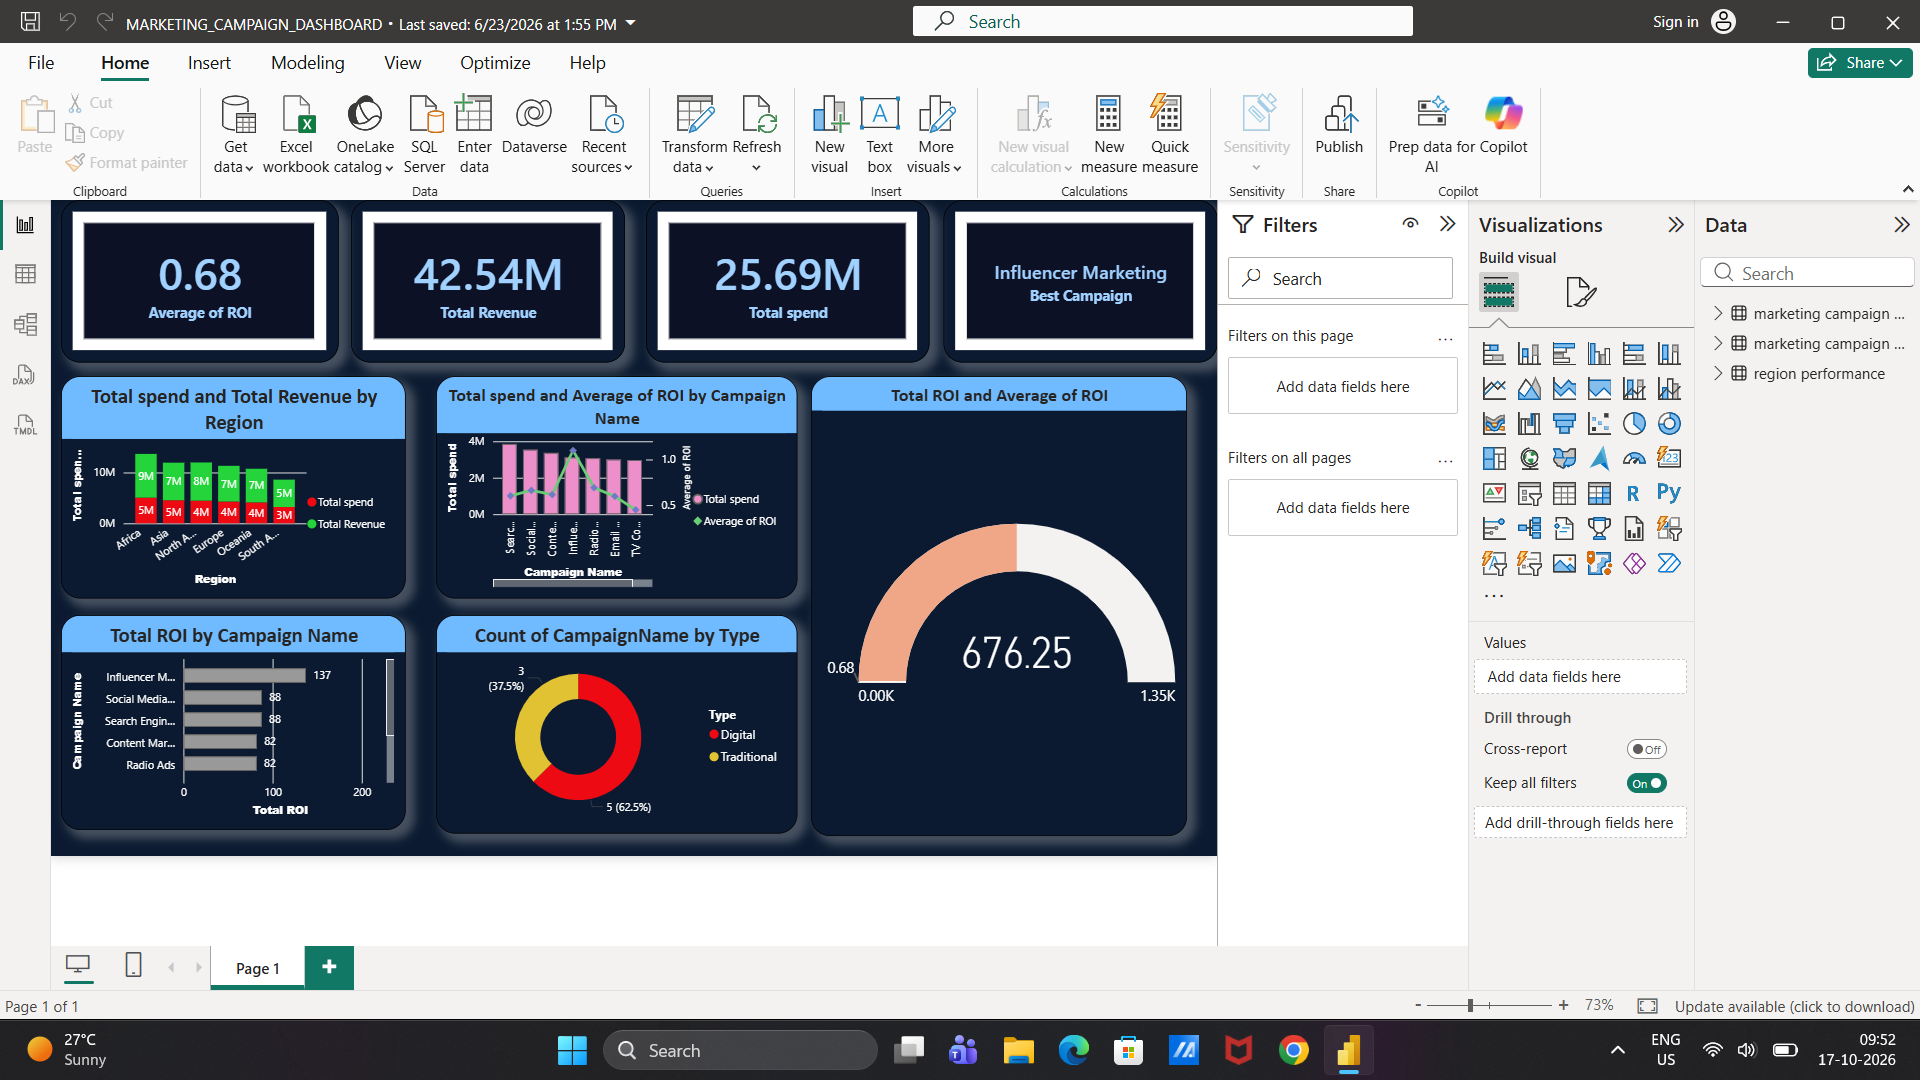

The dashboard page shown, as its layout file describes it:
{"tool":"powerbi","page":{"name":"Page 1","canvas":[1280,720],"ordinal":0},"visuals":[{"type":"columnChart","fields":{"Y":["marketing campaign performance.Total spend","marketing campaign performance.Total Revenue"],"Category":["marketing campaign performance.Region"]},"box":[11,193.5,378.7,244.3],"z":0},{"type":"lineClusteredColumnComboChart","fields":{"Category":["marketing campaign performance.Campaign Name"],"Y":["marketing campaign performance.Total spend"],"Y2":["Avg(marketing campaign performance.ROI)"]},"box":[422.6,193.5,396.6,244.3],"z":1},{"type":"barChart","fields":{"Category":["marketing campaign performance.Campaign Name"],"Y":["marketing campaign performance.Total ROI"]},"box":[11,455.6,378.7,236],"z":2},{"type":"donutChart","fields":{"Category":["marketing campaign details.Type"],"Y":["CountNonNull(marketing campaign details.CampaignName)"]},"box":[422.6,455.6,396.6,240.1],"z":3},{"type":"gauge","fields":{"Y":["marketing campaign performance.Total ROI"],"TargetValue":["Avg(marketing campaign performance.ROI)"]},"box":[834.3,193.5,413,505],"z":4},{"type":"cardVisual","fields":{"Data":["Avg(marketing campaign performance.ROI)"]},"box":[11,0,304.6,178.4],"z":5},{"type":"cardVisual","fields":{"Data":["marketing campaign performance.Total Revenue"]},"box":[329.3,0,300.5,178.4],"z":6},{"type":"cardVisual","fields":{"Data":["marketing campaign performance.Total spend"]},"box":[653.2,0,311.5,178.4],"z":7},{"type":"cardVisual","fields":{"Data":["marketing campaign performance.Best Campaign"]},"box":[979.8,0,300.5,178.4],"z":8}]}

Visuals, with their boxes on the page's 1280x720 design canvas (x1, y1, x2, y2). These are canvas units, not pixel positions in the 1920x1080 screenshot, which may show the page scaled, cropped or inside an application window:
columnChart - marketing campaign performance.Total spend x marketing campaign performance.Total Revenue: <bbox>11, 194, 390, 438</bbox>
lineClusteredColumnComboChart - marketing campaign performance.Campaign Name x marketing campaign performance.Total spend: <bbox>423, 194, 819, 438</bbox>
barChart - marketing campaign performance.Campaign Name x marketing campaign performance.Total ROI: <bbox>11, 456, 390, 692</bbox>
donutChart - marketing campaign details.Type x CountNonNull(marketing campaign details.CampaignName): <bbox>423, 456, 819, 696</bbox>
gauge - marketing campaign performance.Total ROI x Avg(marketing campaign performance.ROI): <bbox>834, 194, 1247, 698</bbox>
cardVisual - Avg(marketing campaign performance.ROI): <bbox>11, 0, 316, 178</bbox>
cardVisual - marketing campaign performance.Total Revenue: <bbox>329, 0, 630, 178</bbox>
cardVisual - marketing campaign performance.Total spend: <bbox>653, 0, 965, 178</bbox>
cardVisual - marketing campaign performance.Best Campaign: <bbox>980, 0, 1280, 178</bbox>
